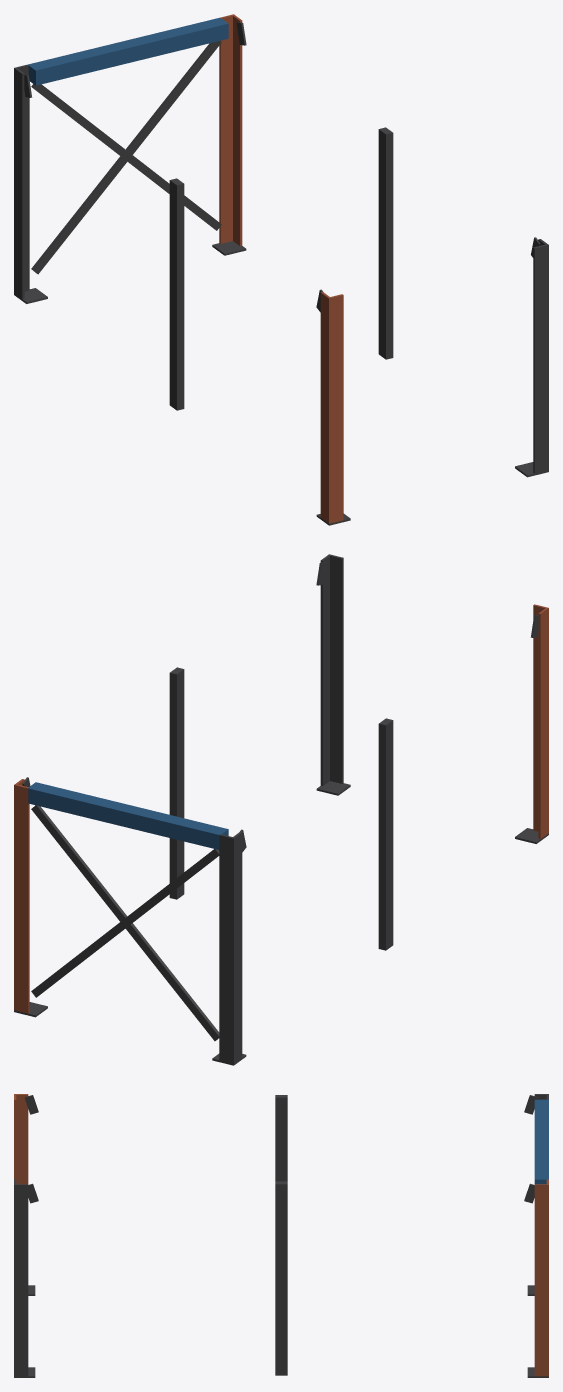
The model's file is c20_frame.obj.
The picture shows the model from 3 angles, top to bottom: view 1: azimuth 30°, elevation 25°; view 2: azimuth 150°, elevation 25°; view 3: azimuth 270°, elevation 25°; orthographic projection. The views are drawn at different scales.
Parts seen in each view (by area): view 1: c20_frame; view 2: c20_frame; view 3: c20_frame.
Part boxes in pixels (left/top/right/bottom): c20_frame: left=14, top=14, right=548, bottom=525; c20_frame: left=14, top=554, right=548, bottom=1065; c20_frame: left=14, top=1094, right=548, bottom=1377.
Size of the model in its own units: 2.44 by 2.41 by 6.06.
